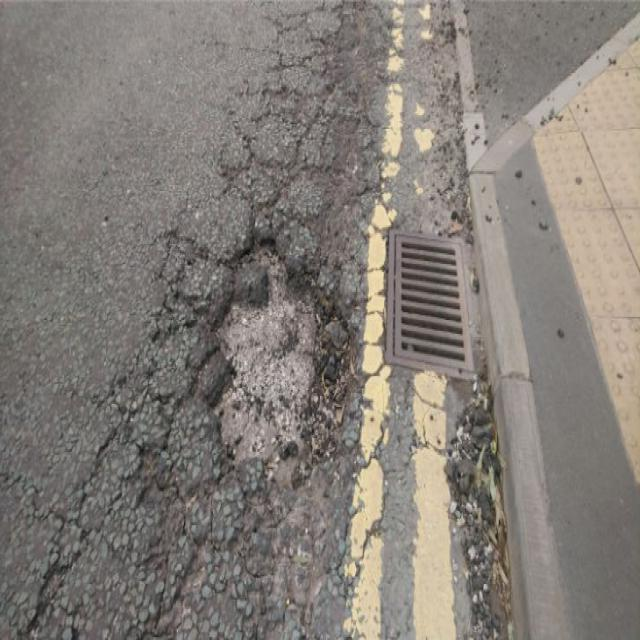Pothole: (200, 224, 359, 485)
